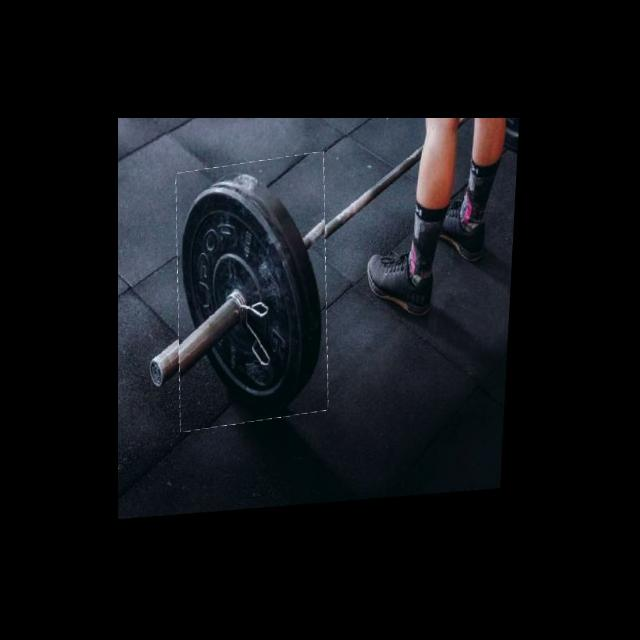barbell: (170, 157, 337, 432)
